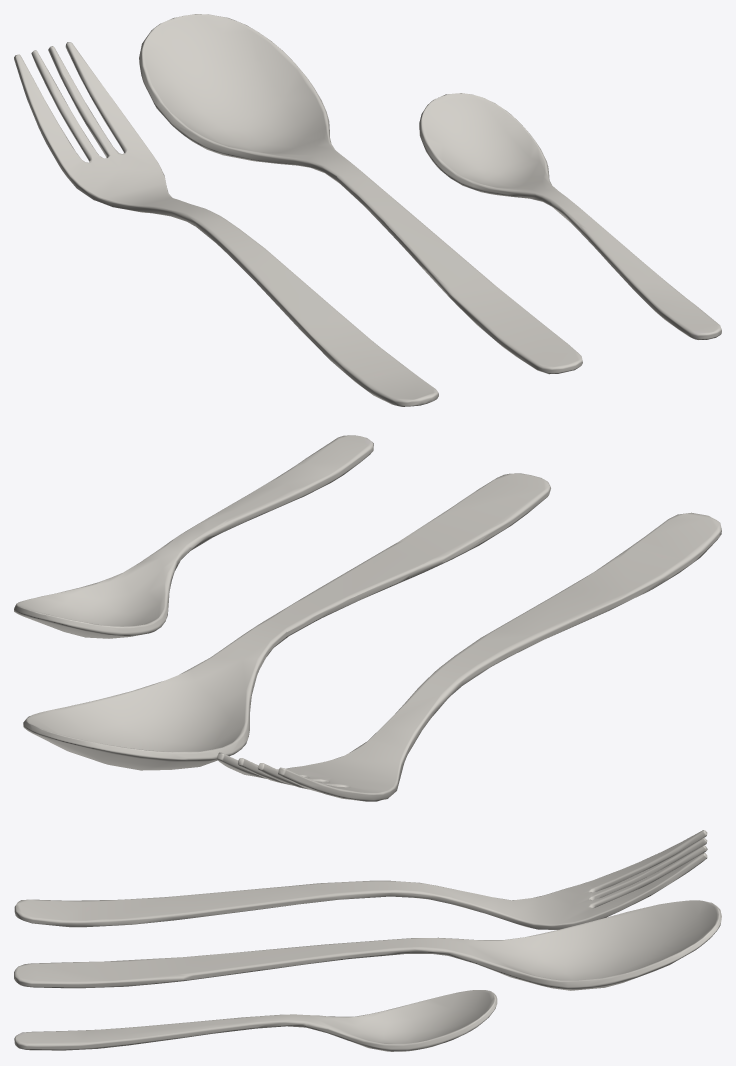
Rendered from mopsig_komplet_sztuccow_16_szt_00343003.glb.
3 renders of one model, top to bottom at view 1: azimuth 30°, elevation 25°; view 2: azimuth 150°, elevation 25°; view 3: azimuth 270°, elevation 25°, orthographic. The views are drawn at different scales.
Parts seen in each view (by area): view 1: mopsig_komplet_sztuccow_16_szt_00343003; view 2: mopsig_komplet_sztuccow_16_szt_00343003; view 3: mopsig_komplet_sztuccow_16_szt_00343003.
Part boxes in pixels (box(x1,y1,x2,y2)): mopsig_komplet_sztuccow_16_szt_00343003: box(14, 14, 721, 406); mopsig_komplet_sztuccow_16_szt_00343003: box(14, 435, 721, 801); mopsig_komplet_sztuccow_16_szt_00343003: box(14, 830, 721, 1051).
Size of the model in its own units: 0.1059 by 0.0223 by 0.1892.
Materials: 3 (3 with a texture image).
